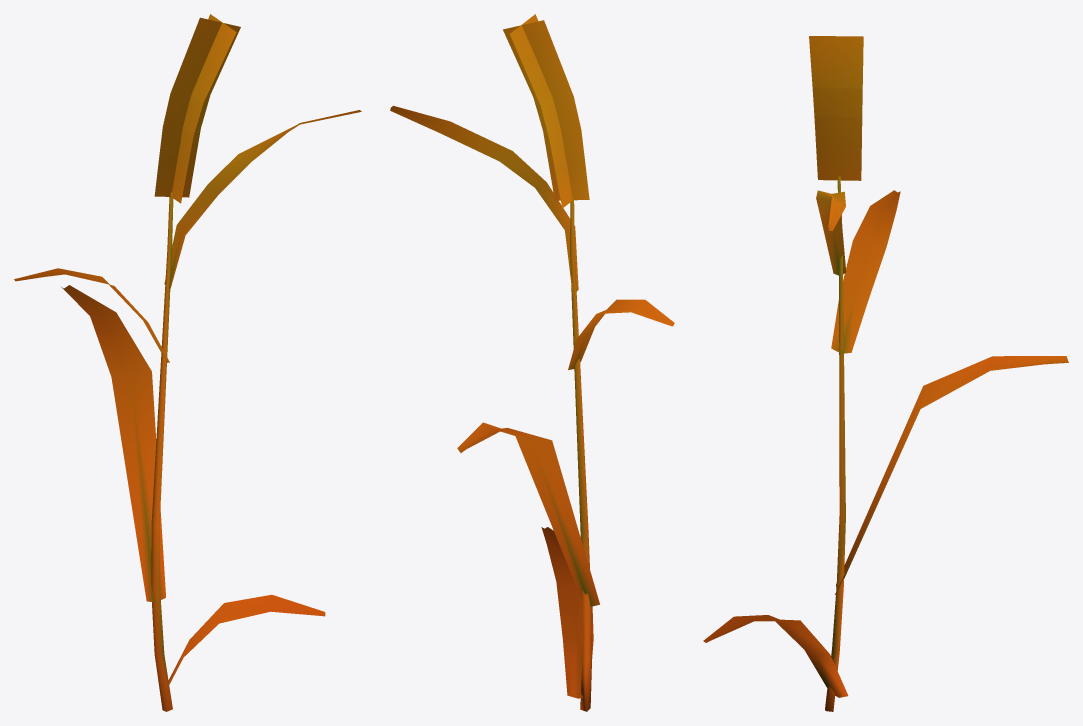
File: SM_WheatPlants_11.fbx
3 views of the same model, side by side, from view 1: azimuth 30°, elevation 25°; view 2: azimuth 150°, elevation 25°; view 3: azimuth 270°, elevation 25° (orthographic). The views are drawn at different scales.
Parts seen in each view (by area): view 1: SM_WheatPlants_11; view 2: SM_WheatPlants_11; view 3: SM_WheatPlants_11.
Part boxes in pixels (x1,y1,x2,y2): SM_WheatPlants_11: [14, 14, 361, 711]; SM_WheatPlants_11: [390, 14, 674, 711]; SM_WheatPlants_11: [703, 36, 1068, 711].
Size of the model in its own units: 0.9129 by 1.89 by 0.8757.
